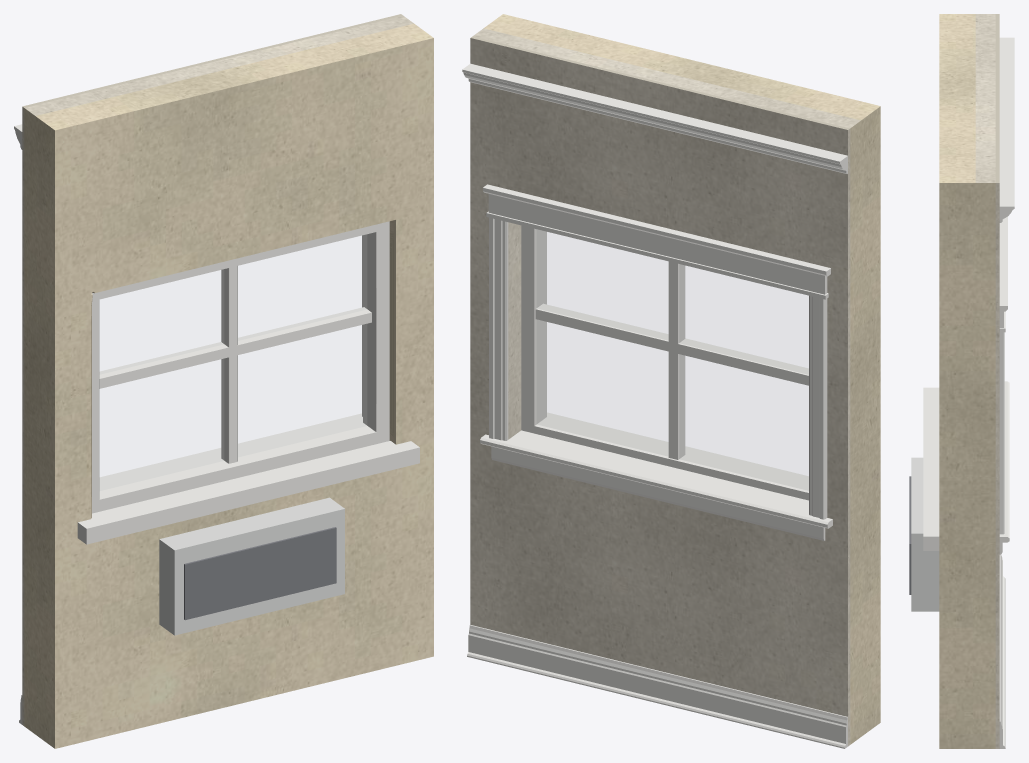
Rendered from wall_window.glb.
3 views of the same model, side by side, from view 1: azimuth 30°, elevation 25°; view 2: azimuth 150°, elevation 25°; view 3: azimuth 270°, elevation 25° (orthographic). The views are drawn at different scales.
Visible parts, largest first — view 1: wall_window_stucco, folha_glass, wall_window_frame, wall_window_trim, wall_window_metal, wall_window_dark, wall_window_plaster, molduras; view 2: wall_window_plaster, molduras, folha_glass, wall_window_stucco, folha_frame, wall_window_frame, wall_window_trim; view 3: wall_window_stucco, molduras, wall_window_plaster, wall_window_metal, wall_window_trim, wall_window_dark.
Boxes of the visible parts, bbox=[...] form: wall_window_stucco: bbox=[24, 23, 433, 748]; folha_glass: bbox=[100, 235, 366, 490]; wall_window_frame: bbox=[92, 221, 389, 513]; wall_window_trim: bbox=[77, 441, 419, 544]; wall_window_metal: bbox=[159, 497, 344, 635]; wall_window_dark: bbox=[184, 527, 336, 620]; wall_window_plaster: bbox=[22, 14, 413, 725]; molduras: bbox=[14, 124, 362, 724]; wall_window_plaster: bbox=[470, 28, 860, 746]; molduras: bbox=[462, 63, 847, 748]; folha_glass: bbox=[537, 230, 808, 489]; wall_window_stucco: bbox=[484, 14, 880, 744]; folha_frame: bbox=[521, 225, 808, 500]; wall_window_frame: bbox=[534, 228, 808, 492]; wall_window_trim: bbox=[547, 412, 808, 480]; wall_window_stucco: bbox=[939, 14, 995, 748]; molduras: bbox=[999, 37, 1014, 748]; wall_window_plaster: bbox=[975, 14, 999, 748]; wall_window_metal: bbox=[911, 457, 939, 611]; wall_window_trim: bbox=[923, 387, 939, 550]; wall_window_dark: bbox=[909, 476, 911, 594].
Bounding box in the file's own units: 2 × 3.12 × 0.525.
7 materials, 2 textured.
